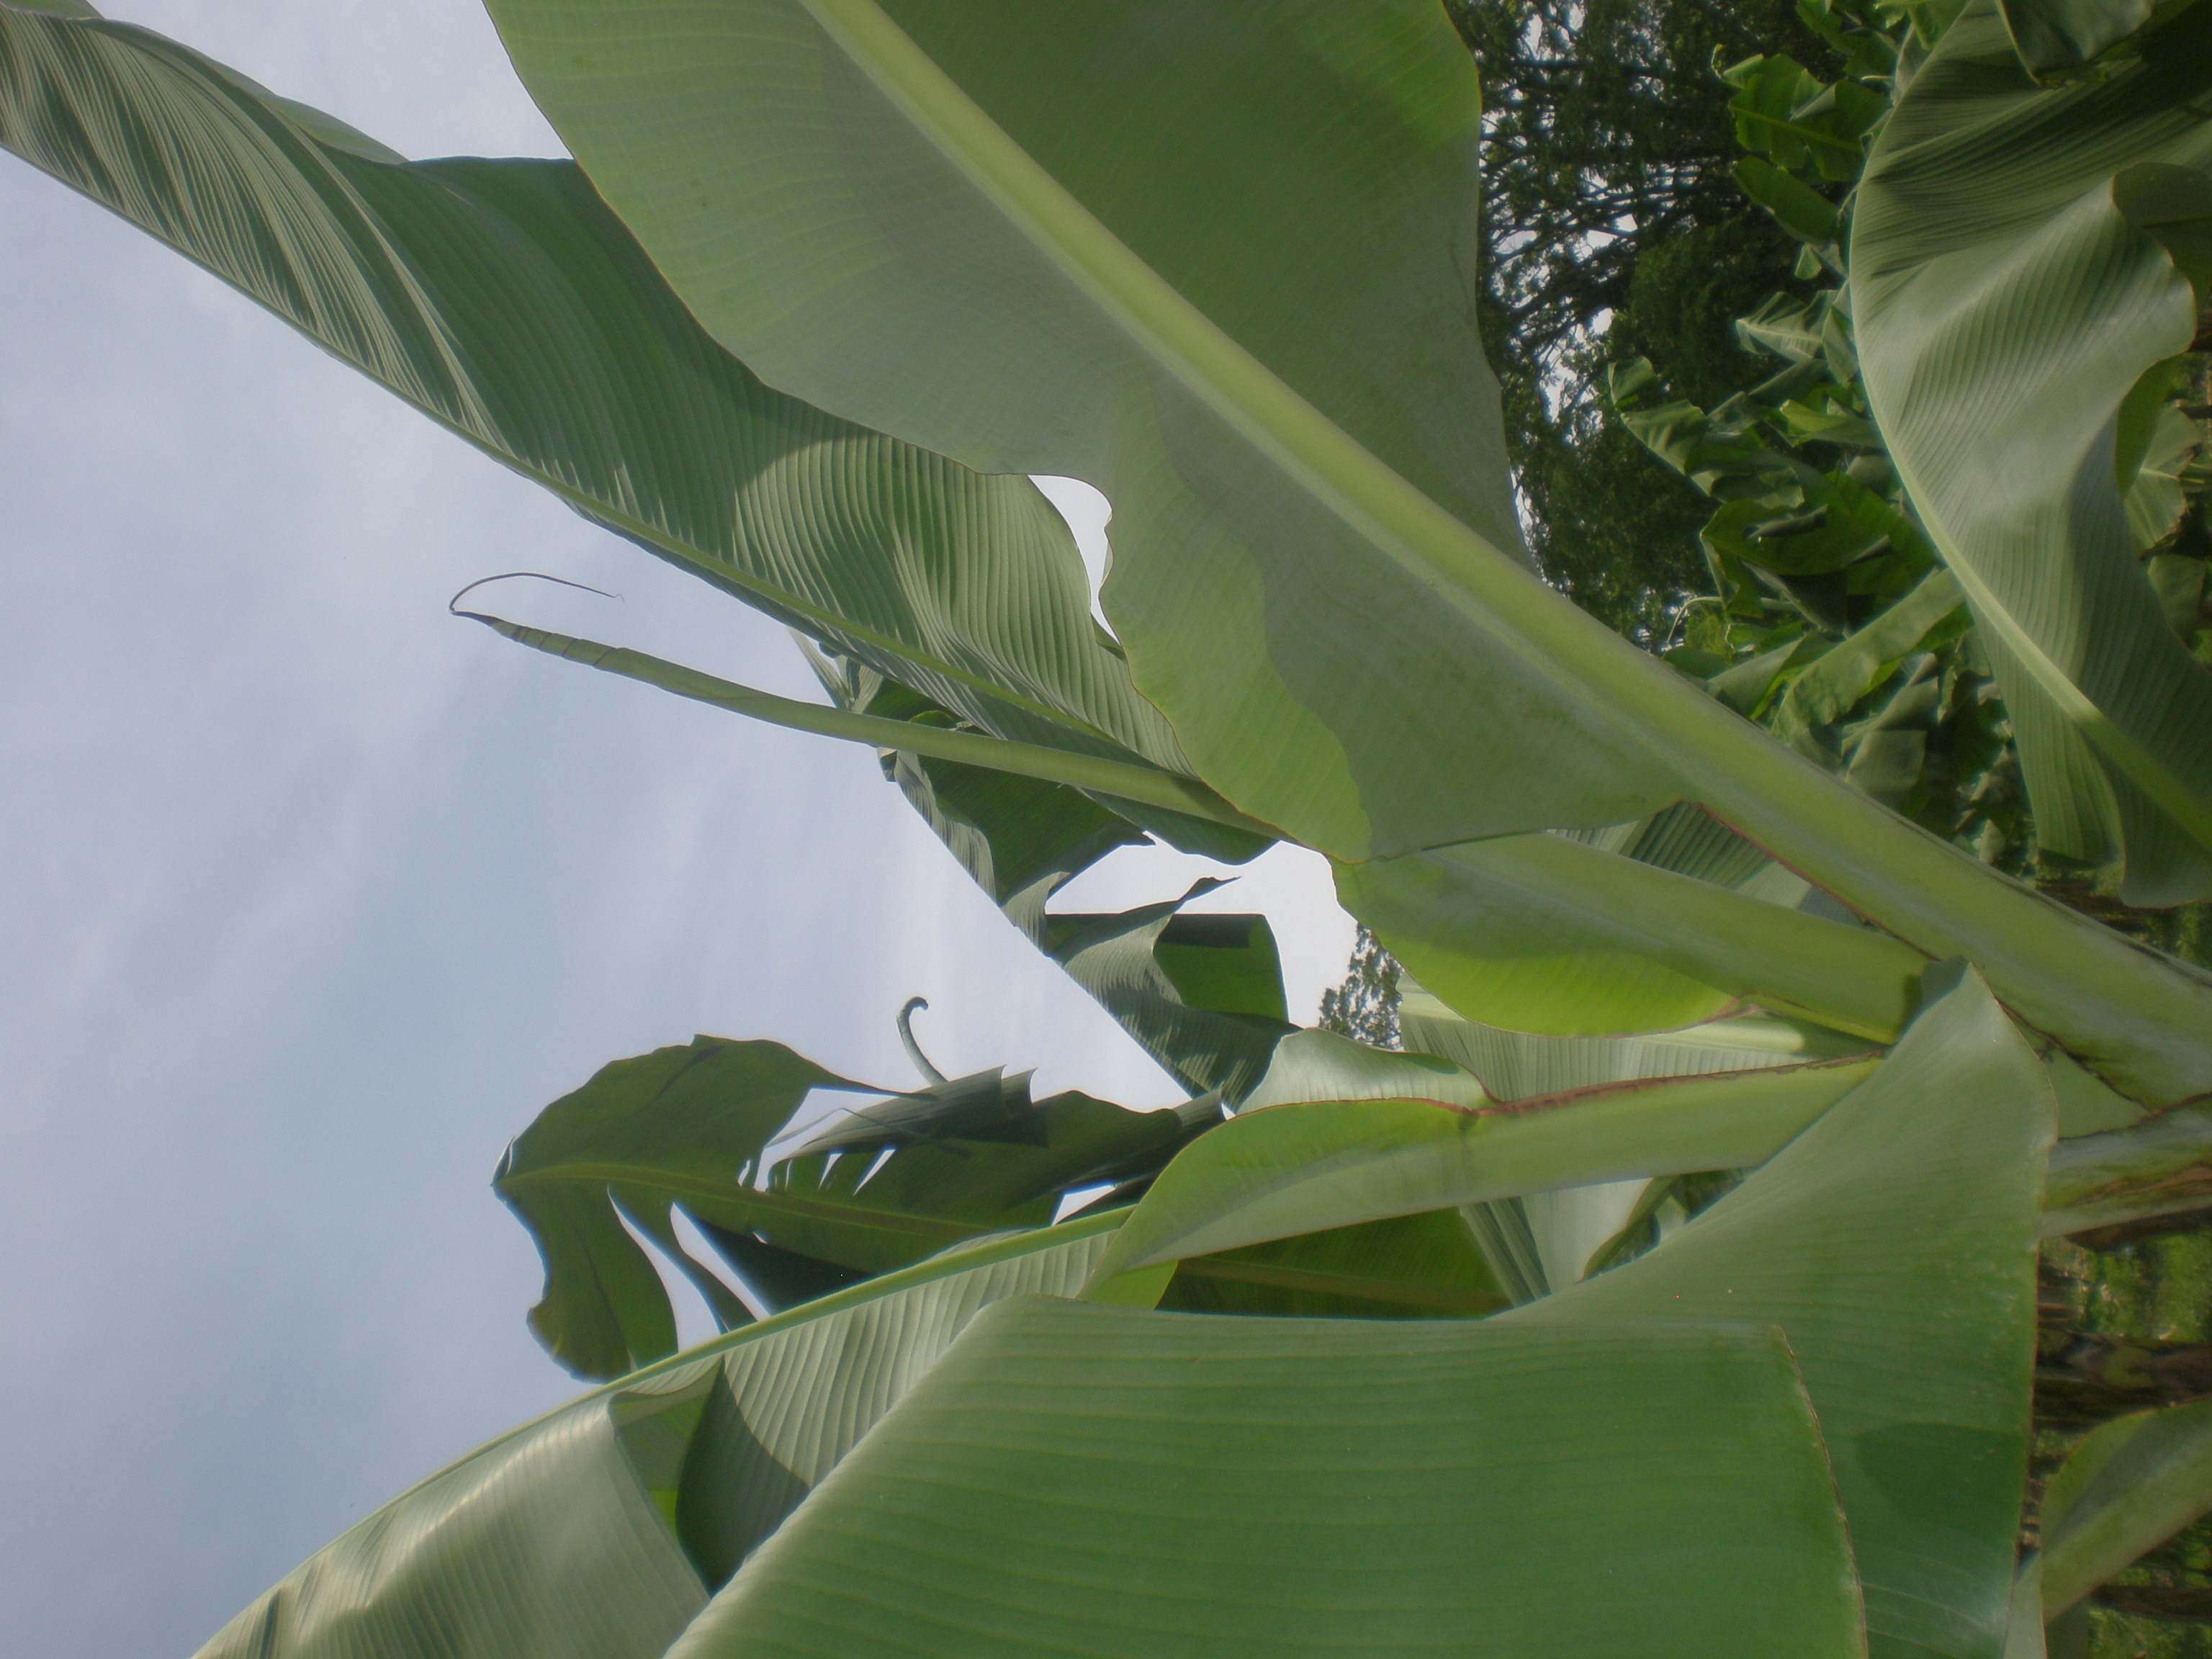candleleafs: (449, 568, 1216, 835), (899, 993, 946, 1082)
